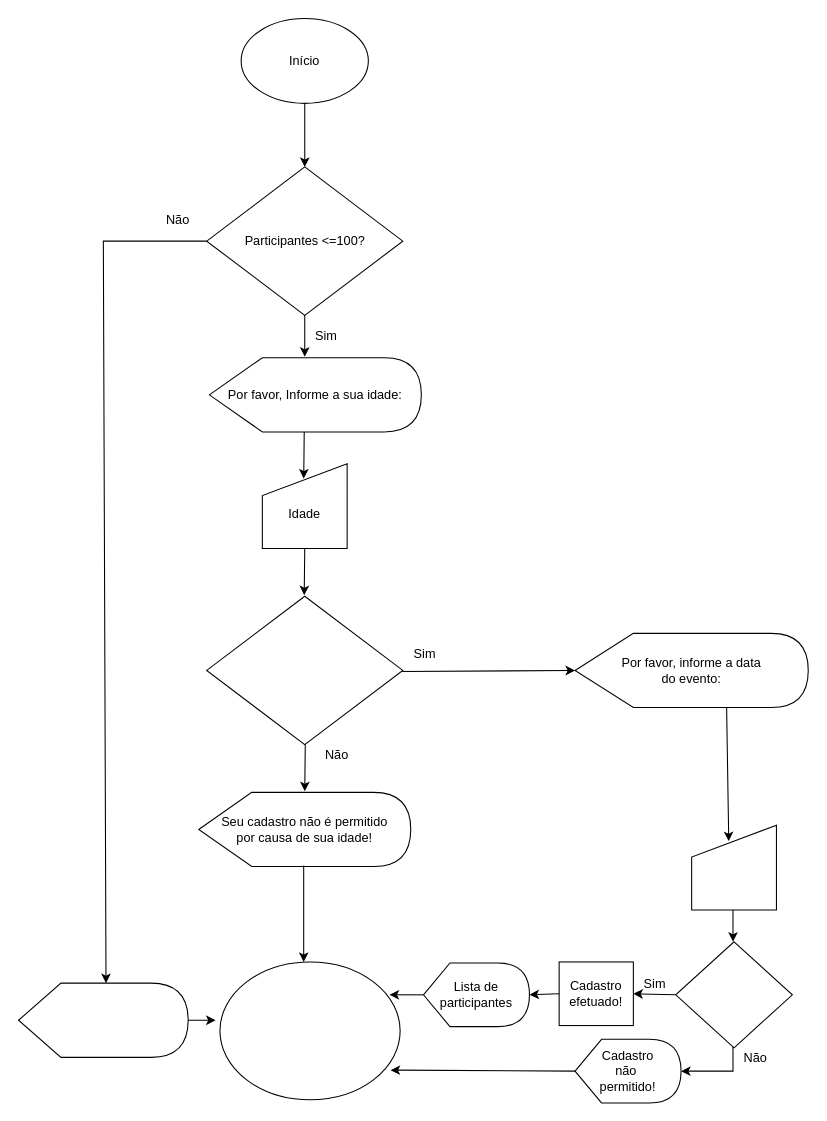
The diagram is 827 pixels wide and 1121 high, and some of its shapes have lost their labels. The shapes that lost their labels are listed below. From the top down, each one's box as (x1, y1, x2, y2) in pixels, then its label:
(206, 595, 403, 745): Sua idade é >= 18?
(691, 824, 776, 910): Data
(675, 941, 792, 1048): Data > hoje?
(17, 982, 188, 1057): Cadastro não permitido excedido o limite!
(219, 961, 400, 1100): Fim
